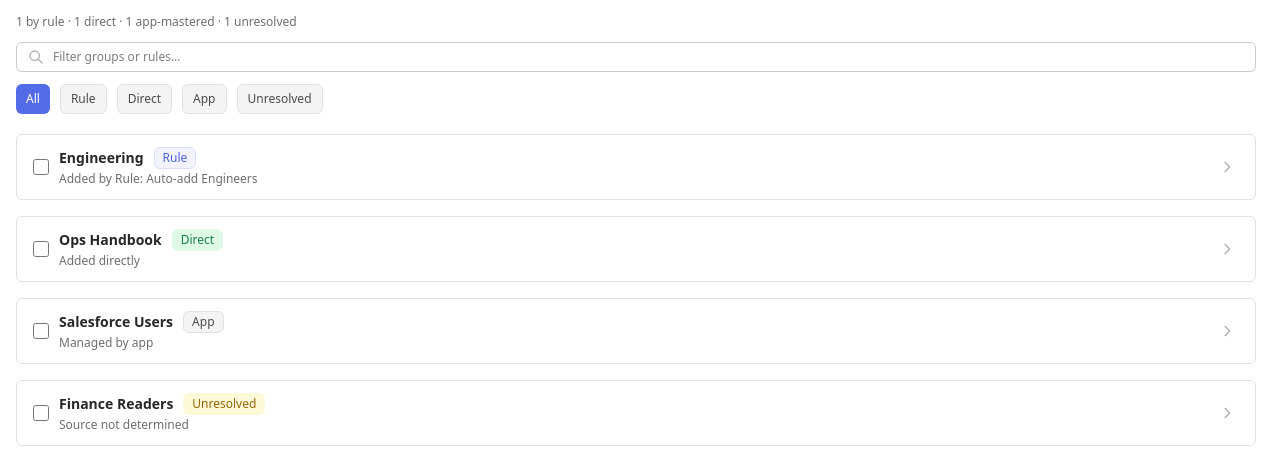
Test: GroupMembershipsList — the pane header › narrows to one source bucket when a pill is pressed
This screenshot has width=1273, height=463.
Click the button "Direct" at (144, 99), box x1=117 y1=84 x2=172 y2=114
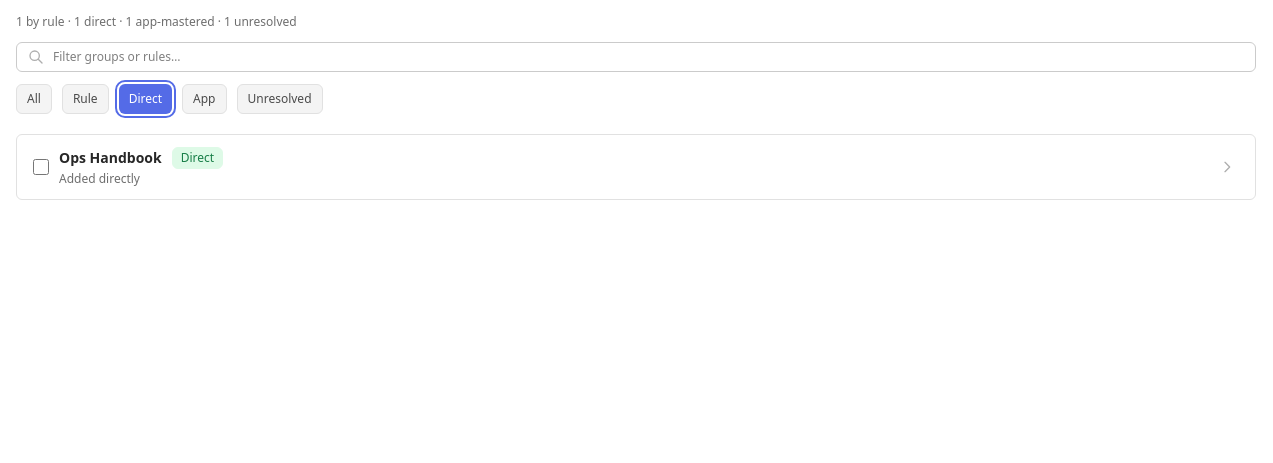
Expected: the heading "Ops Handbook" is shown, x1=59 y1=148 x2=162 y2=168
Result: the heading "Engineering" is gone
